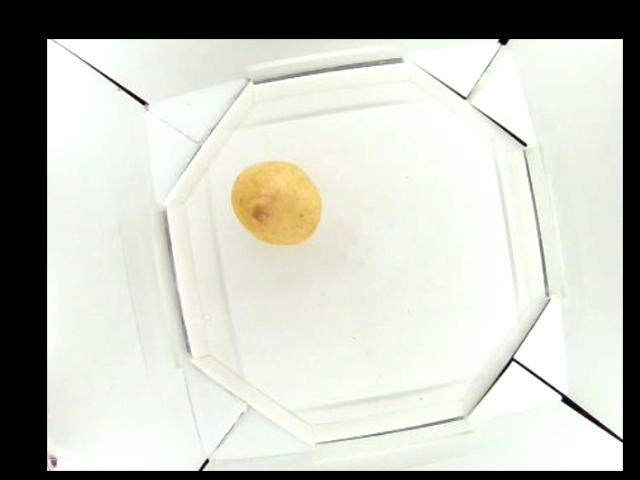Potato: (227, 161, 318, 241)
